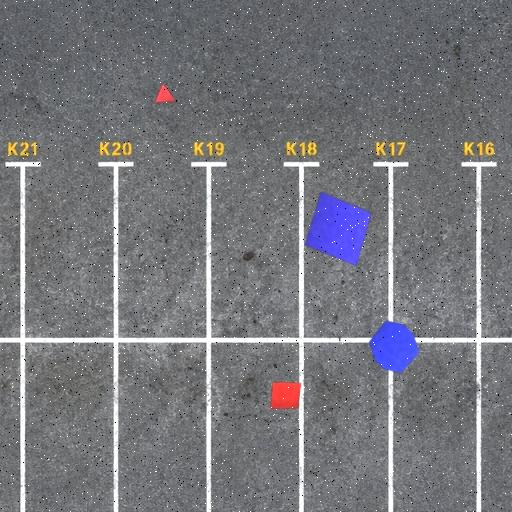BLUE_SQUARE: (304, 190, 372, 266)
RED_SQUARE: (270, 382, 302, 410)
